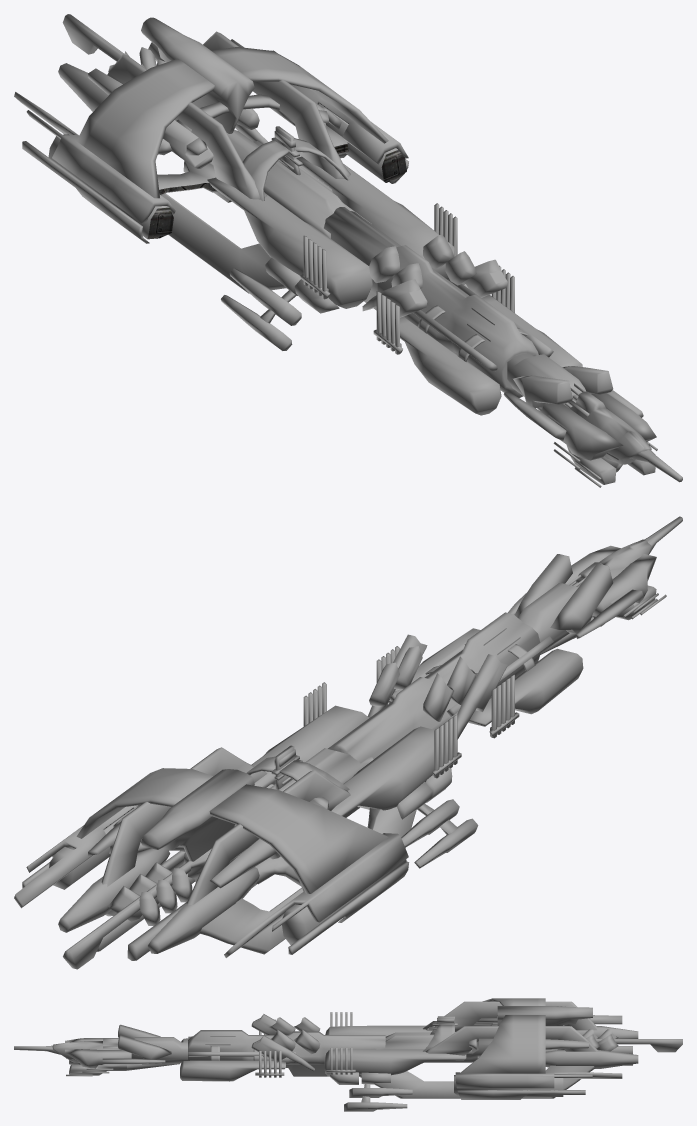
Rendered from humanDread.dae.
The picture shows the model from 3 angles, top to bottom: view 1: azimuth 30°, elevation 25°; view 2: azimuth 150°, elevation 25°; view 3: azimuth 270°, elevation 25°; orthographic projection. The views are drawn at different scales.
Parts seen in each view (by area): view 1: Cube; view 2: Cube; view 3: Cube.
Part boxes in pixels (x1=…): Cube: x1=14, y1=14, x2=682, y2=487; Cube: x1=14, y1=516, x2=682, y2=969; Cube: x1=14, y1=998, x2=682, y2=1111.
Bounding box in the file's own units: 39.15 × 19.94 × 154.
